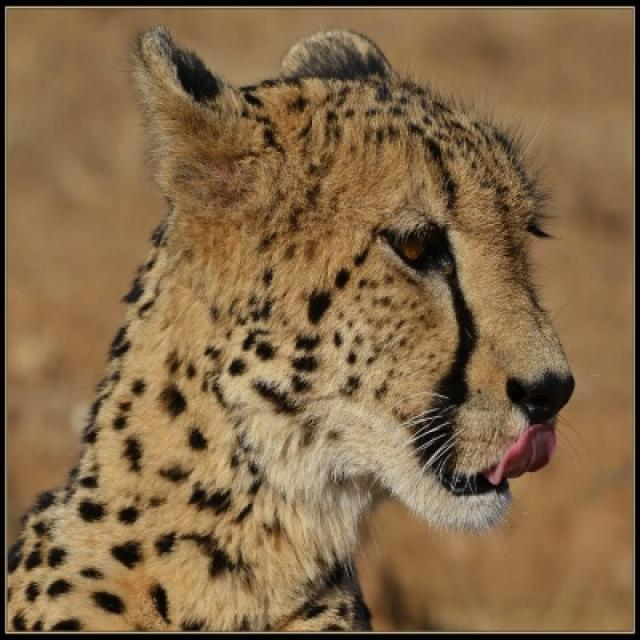Cheetah: (8, 26, 576, 634)
